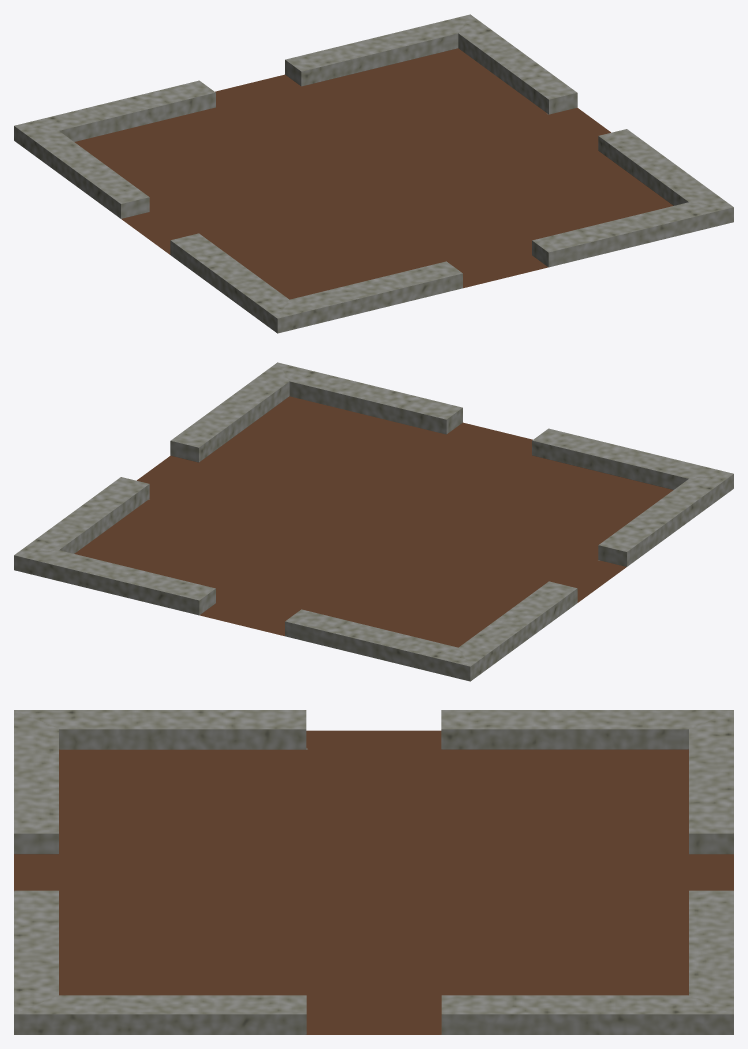
File: Map_Small.glb
3 views of the same model, one above another, from view 1: azimuth 30°, elevation 25°; view 2: azimuth 150°, elevation 25°; view 3: azimuth 270°, elevation 25° (orthographic). The views are drawn at different scales.
Visible parts, largest first — view 1: Plane; view 2: Plane; view 3: Plane.
Boxes of the visible parts, x1,y1,x2,y2 form: Plane: (14,14,733,333); Plane: (14,362,733,681); Plane: (14,710,733,1034).
Size of the model in its own units: 32 by 1 by 32.
1 material, 1 textured.
